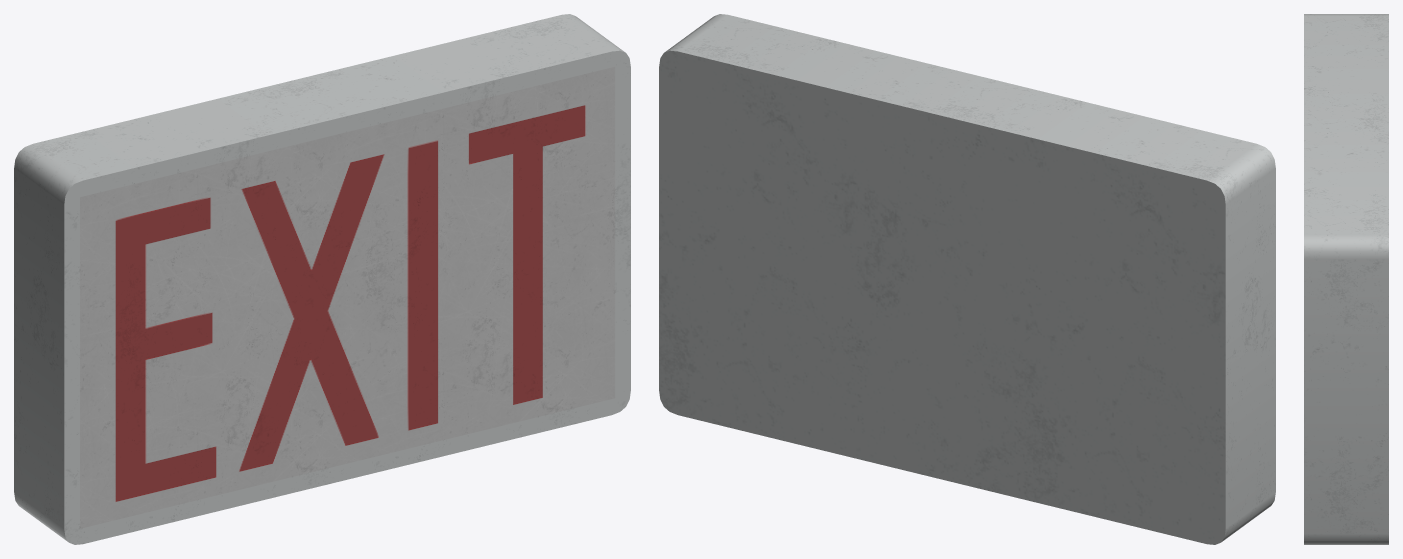
The model's file is SignExit.fbx.
3 views of the same model, side by side, from view 1: azimuth 30°, elevation 25°; view 2: azimuth 150°, elevation 25°; view 3: azimuth 270°, elevation 25° (orthographic). The views are drawn at different scales.
Parts seen in each view (by area): view 1: SignExit; view 2: SignExit; view 3: SignExit.
Boxes of the visible parts, <box> form: SignExit: <box>14,14,630,544</box>; SignExit: <box>659,14,1275,544</box>; SignExit: <box>1304,14,1388,544</box>.
Bounding box in the file's own units: 30 × 18.4 × 4.6.
